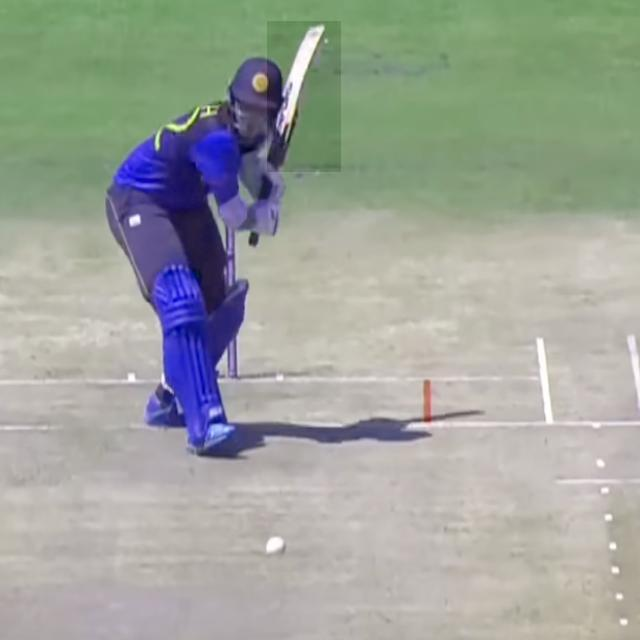bat: (269, 20, 342, 174)
toe: (304, 23, 330, 32)
